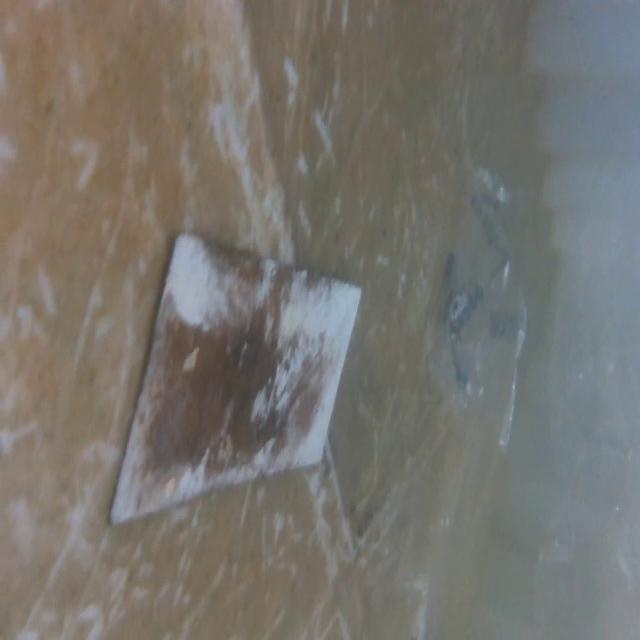plastic bags: (424, 160, 531, 458)
